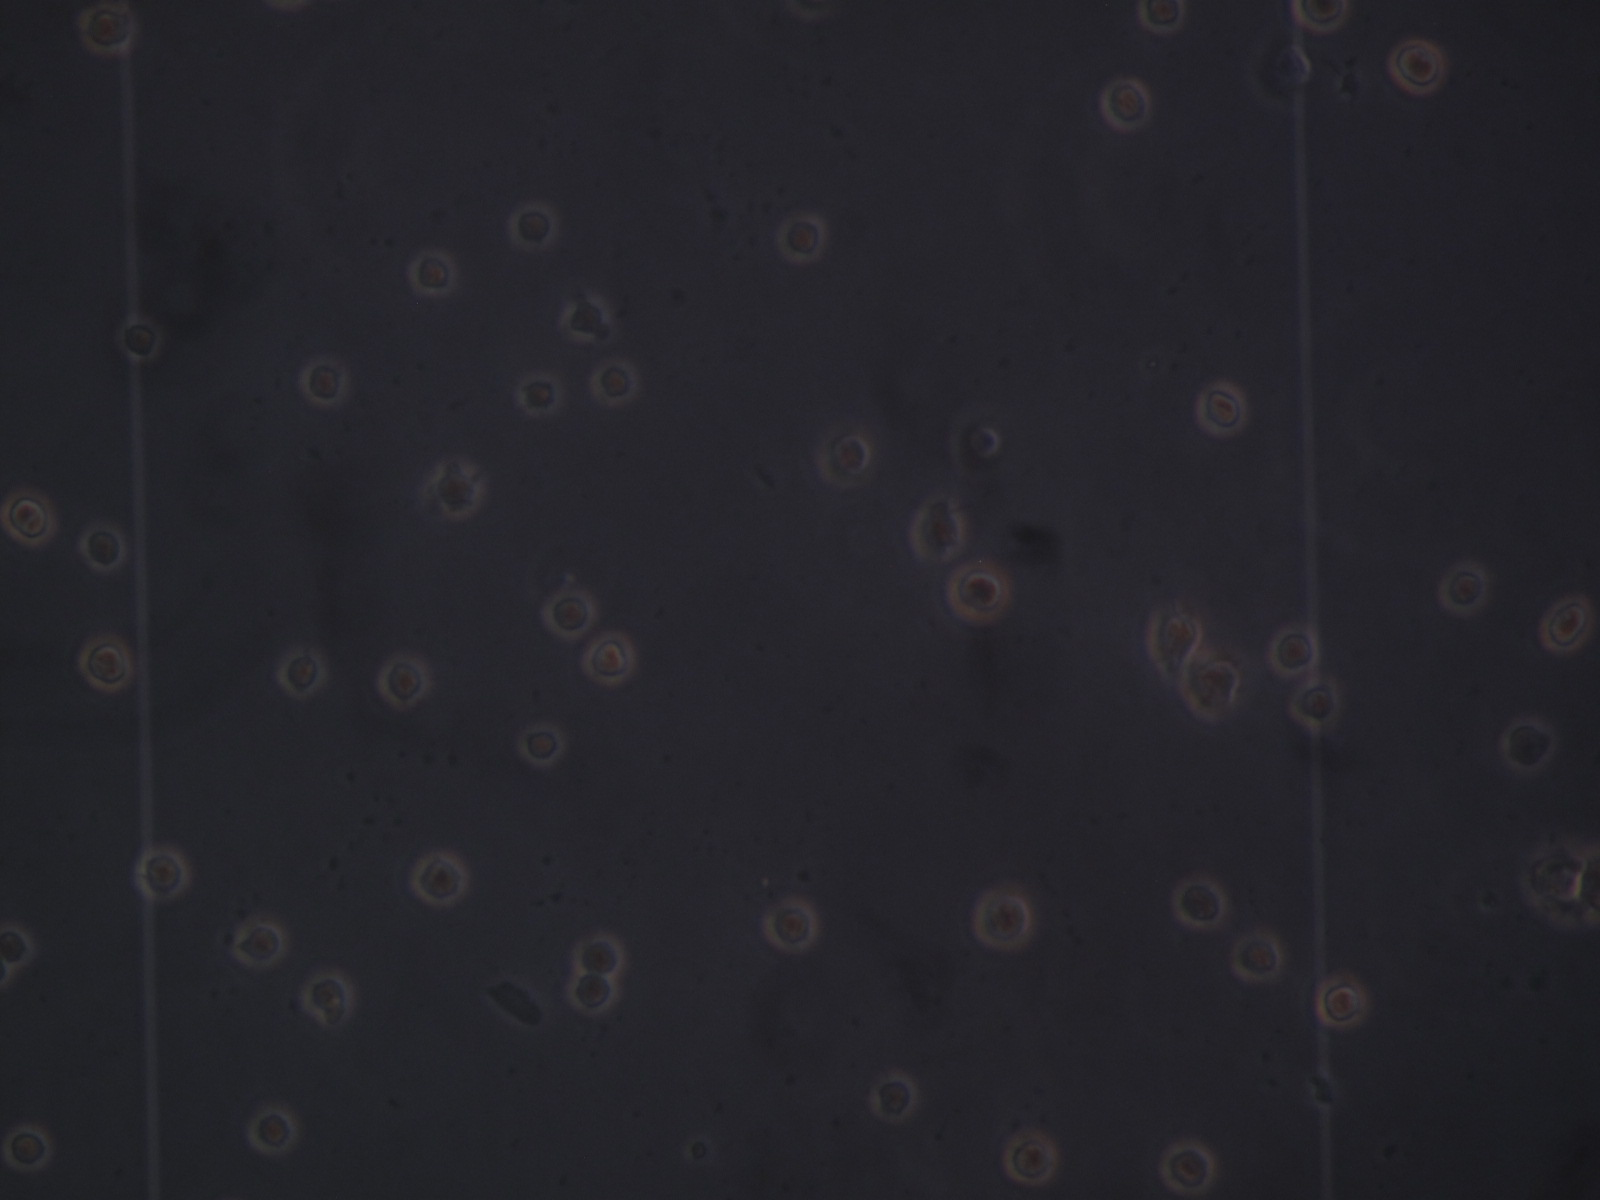hemo: (1523, 845, 1587, 926), (1249, 37, 1311, 112), (1180, 655, 1241, 721), (1146, 609, 1204, 677), (947, 563, 1010, 623), (910, 497, 966, 561), (949, 413, 1002, 482), (973, 890, 1032, 950), (1387, 39, 1446, 95), (816, 427, 871, 488), (1540, 596, 1595, 653), (1002, 1131, 1060, 1185), (409, 852, 467, 906), (77, 4, 137, 55), (1, 489, 55, 546), (763, 897, 818, 953), (135, 846, 189, 901), (78, 637, 134, 691), (1196, 379, 1247, 437), (1159, 1142, 1216, 1194), (1500, 718, 1555, 771), (1437, 561, 1490, 615), (582, 632, 636, 684), (377, 654, 430, 708), (1100, 77, 1151, 131), (1317, 976, 1368, 1029), (1173, 877, 1227, 928), (232, 919, 287, 968), (1267, 625, 1319, 676), (543, 590, 596, 639), (433, 463, 481, 517), (1232, 932, 1283, 982), (304, 973, 353, 1025), (1289, 679, 1340, 729), (248, 1105, 299, 1155), (276, 648, 326, 697), (777, 213, 826, 263), (3, 1124, 53, 1172), (508, 202, 558, 250), (299, 358, 348, 406), (871, 1073, 917, 1122), (79, 524, 126, 571), (408, 250, 456, 295), (572, 934, 624, 976), (118, 314, 163, 362), (564, 296, 610, 342), (591, 361, 637, 405), (568, 972, 617, 1013), (519, 722, 564, 766), (518, 373, 562, 415), (1291, 1, 1349, 33), (1582, 843, 1600, 935), (1136, 1, 1186, 34), (1, 923, 34, 968), (1, 952, 13, 989)
